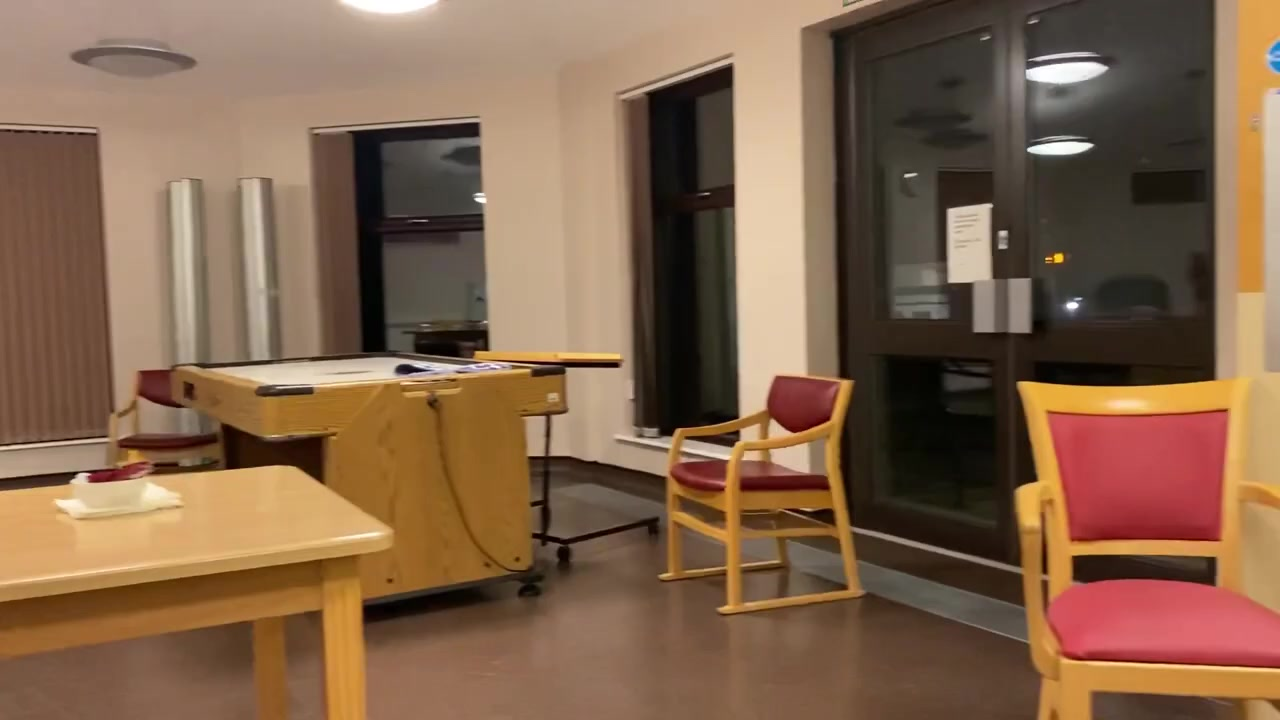chair: (1015, 377, 1280, 720), (658, 374, 865, 616), (107, 367, 226, 468)
door_handle: (1004, 278, 1032, 335), (971, 278, 998, 334)
table: (1, 463, 398, 720)
